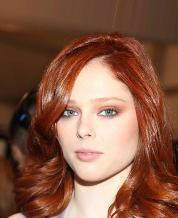face: (61, 104, 118, 164)
